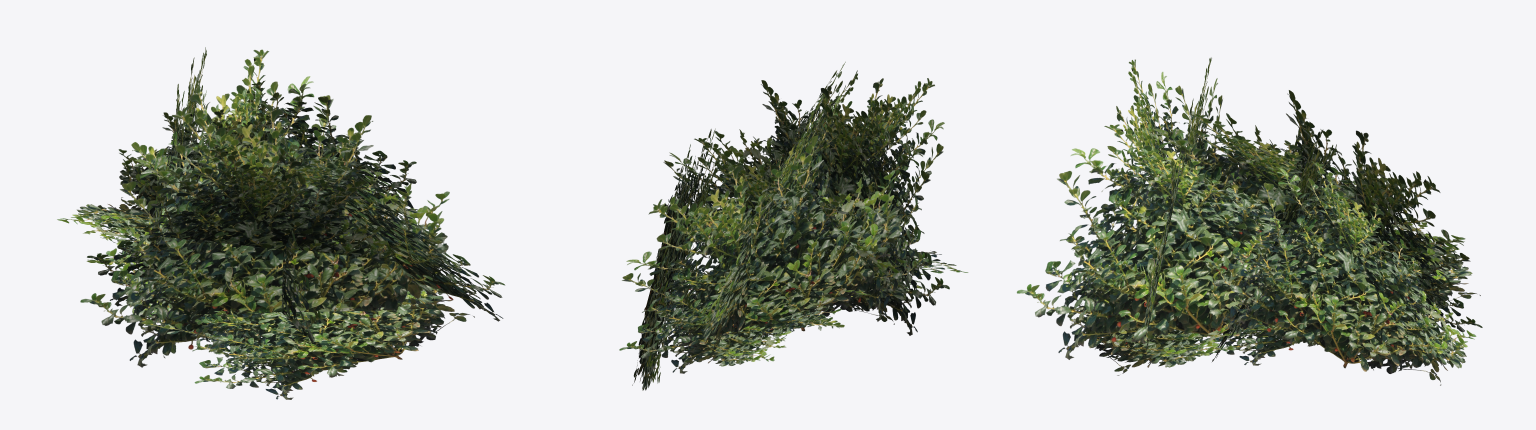
The model's file is Bush11.gltf.
3 views of the same model, side by side, from view 1: azimuth 30°, elevation 25°; view 2: azimuth 150°, elevation 25°; view 3: azimuth 270°, elevation 25° (orthographic). The views are drawn at different scales.
Visible parts, largest first — view 1: BushMed2; view 2: BushMed2; view 3: BushMed2.
Boxes of the visible parts, x1,y1,x2,y2 form: BushMed2: (57,47,504,399); BushMed2: (619,62,968,390); BushMed2: (1016,57,1482,385).
Bounding box in the file's own units: 40.77 × 37.71 × 54.44.
Materials: 1 (1 with a texture image).
